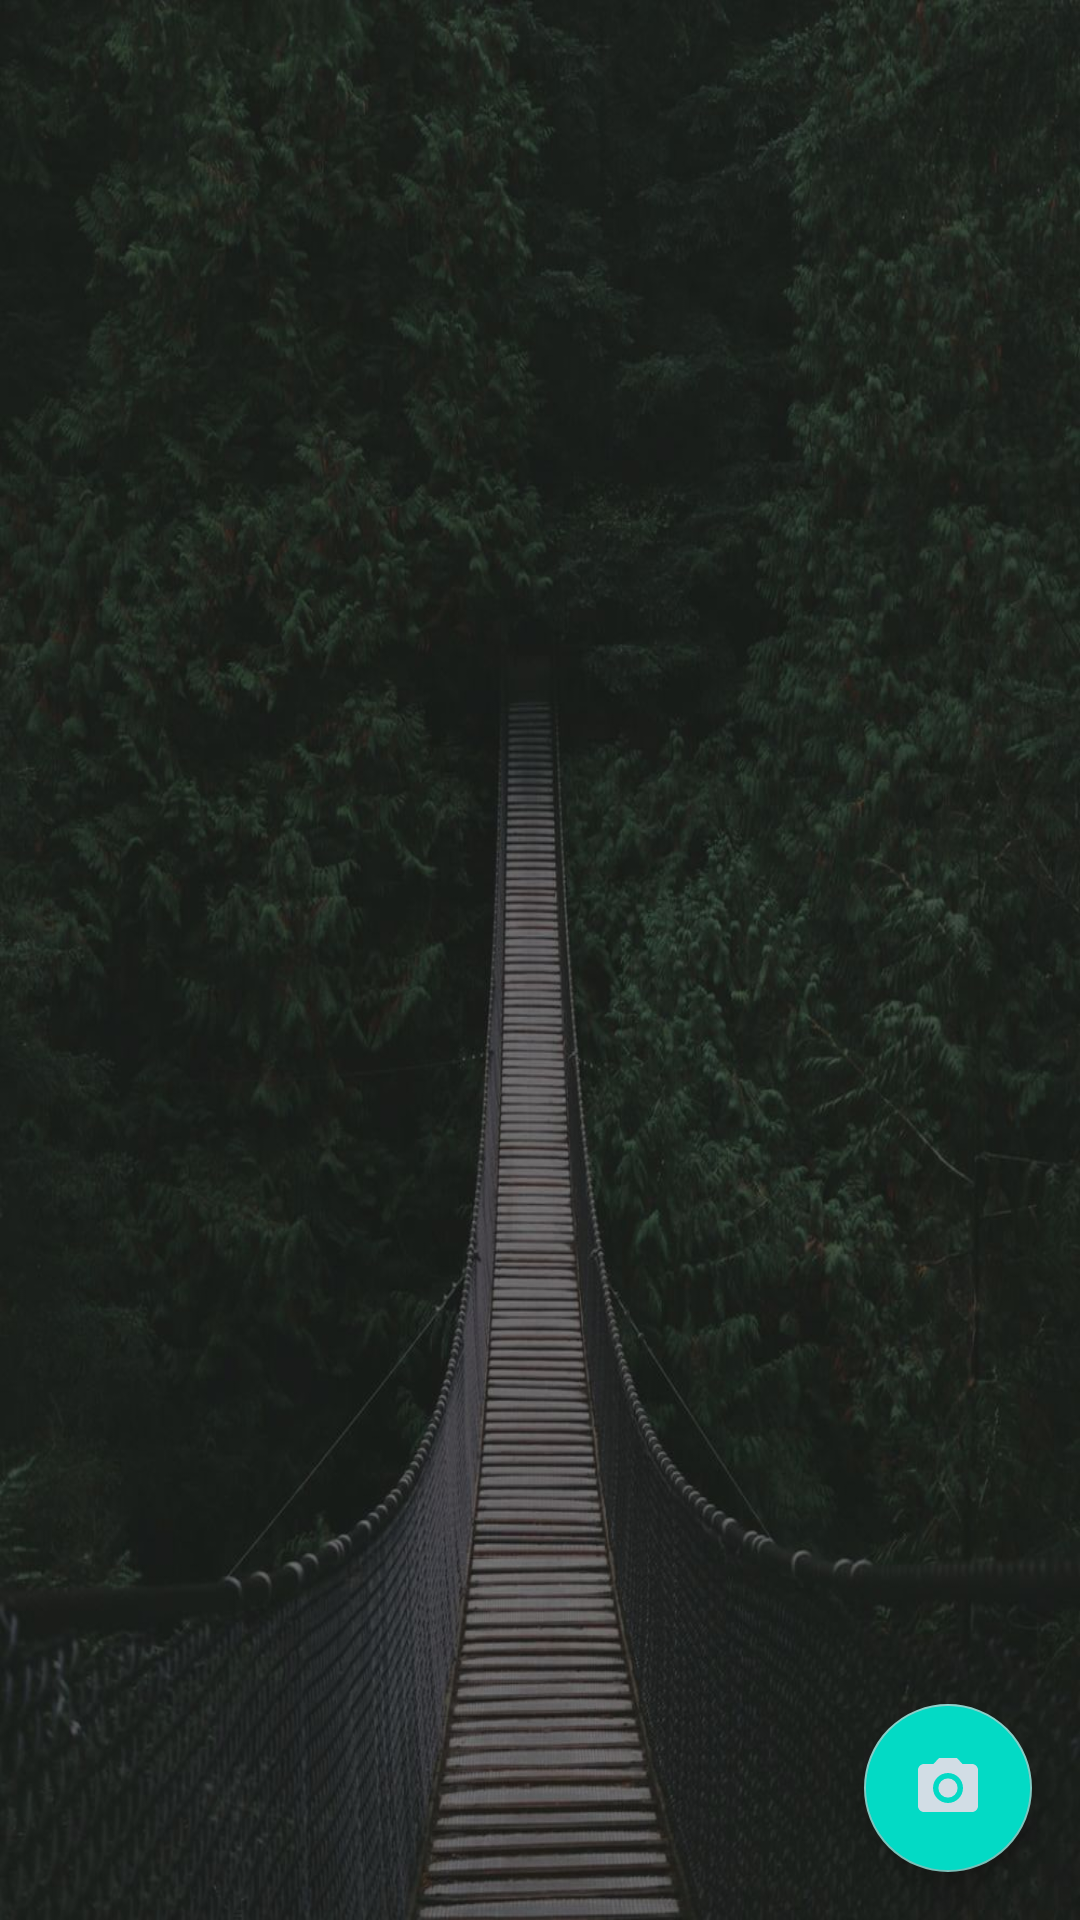

Icon bounding boxes for this 1080 x 1920 phone screenshot, format [x1, y1, x2, y2]:
photo camera: [864, 1704, 1032, 1872]
